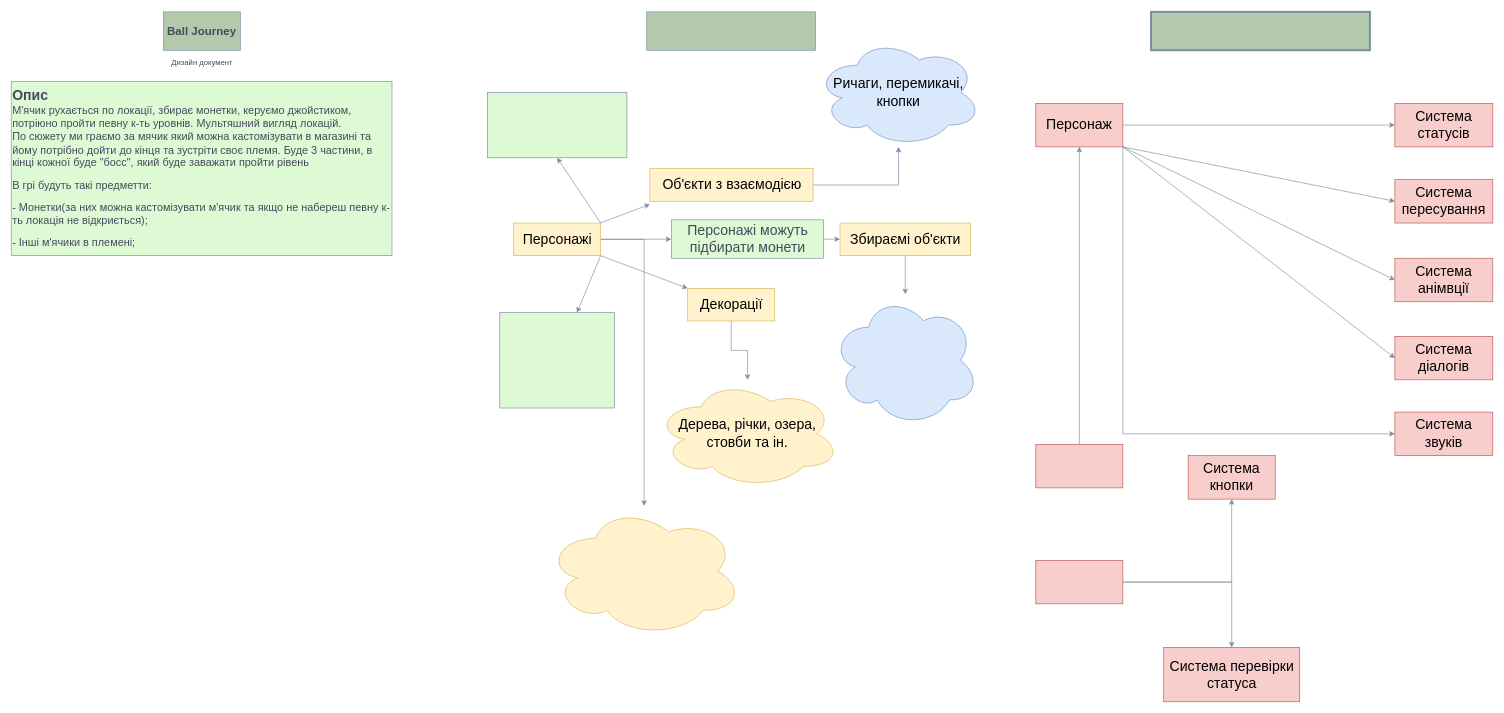
Image size: 1504x713. Some labels were removed from this diagram. Each missing label, with the centre of its shape:
Категорії об'єктів: (731,30)
Контроллер: (1079,466)
М'ячик, "босс", друзі з племені: (644,570)
Монетки, шестерні: (905,360)
Персонажі можуть нажимати на кнопки або перемикати ричаги: (557,125)
Персонажі не можуть проходити крізь декорації: (556,360)
Системи (послідовності дій з кінцевим результатом): (1260,31)
Тріггер: (1079,582)
